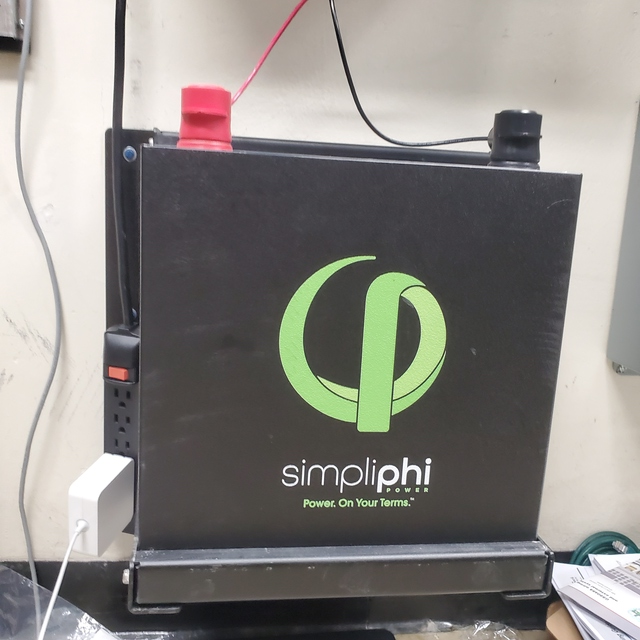battery: (136, 84, 585, 610)
